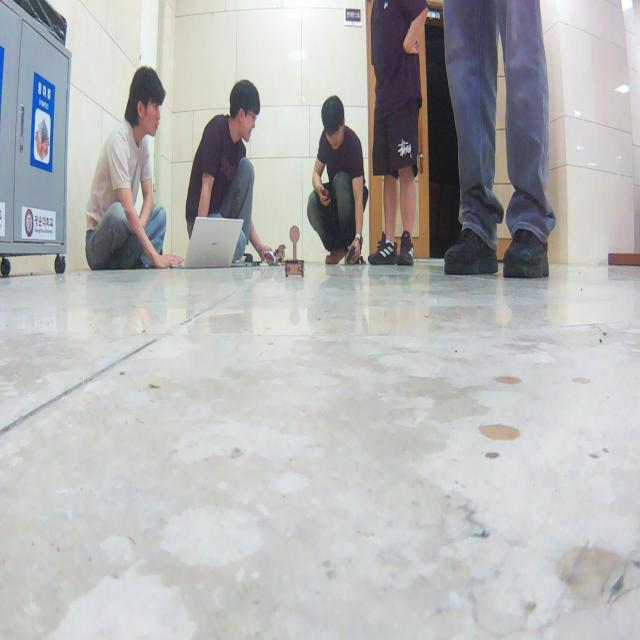target: (285, 224, 305, 278)
